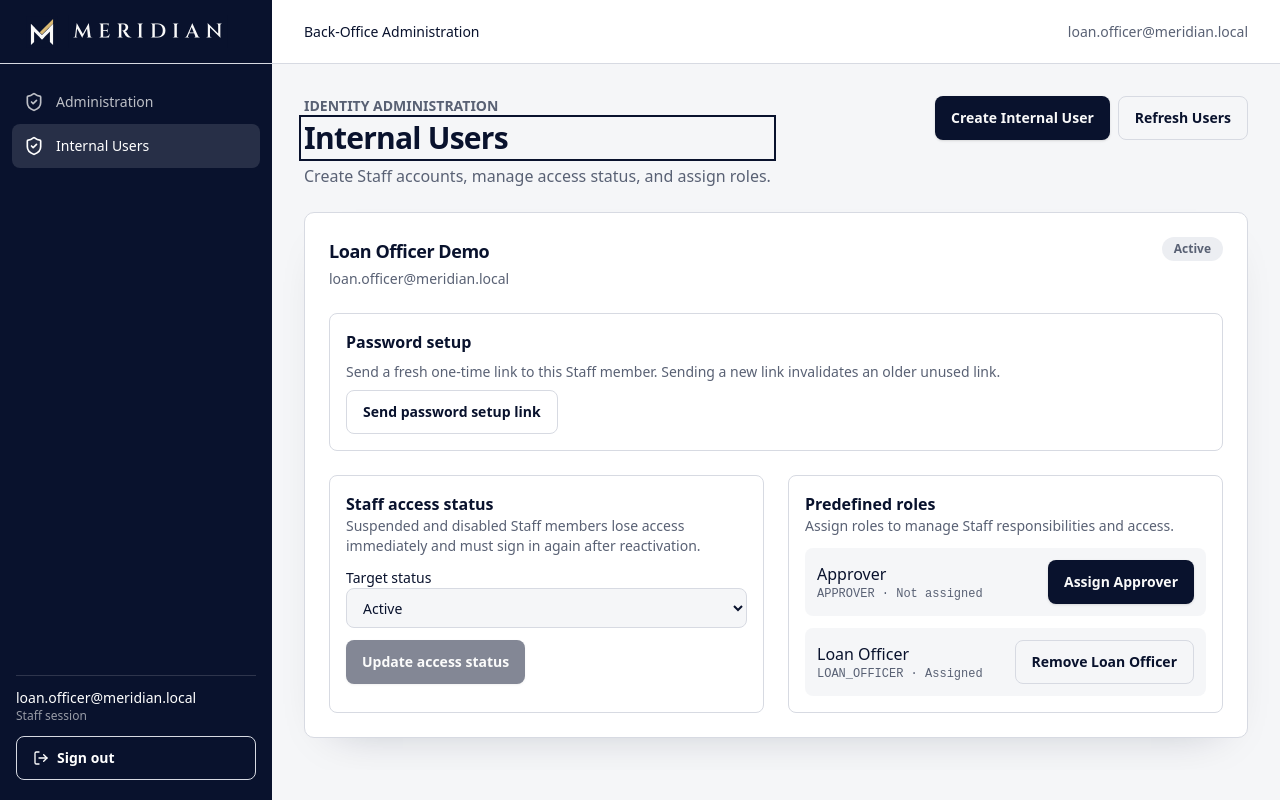
it: Internal User administration page › confirms suspension before the exact target-state command and restores focus on cancel
This screenshot has width=1280, height=800.
expect the heading "Loan Officer Demo" is shown: met, box 329,237 -> 509,265
Select "Suspended" in the dropdown labelled "Target status": (546, 608) 346,588 -> 747,628
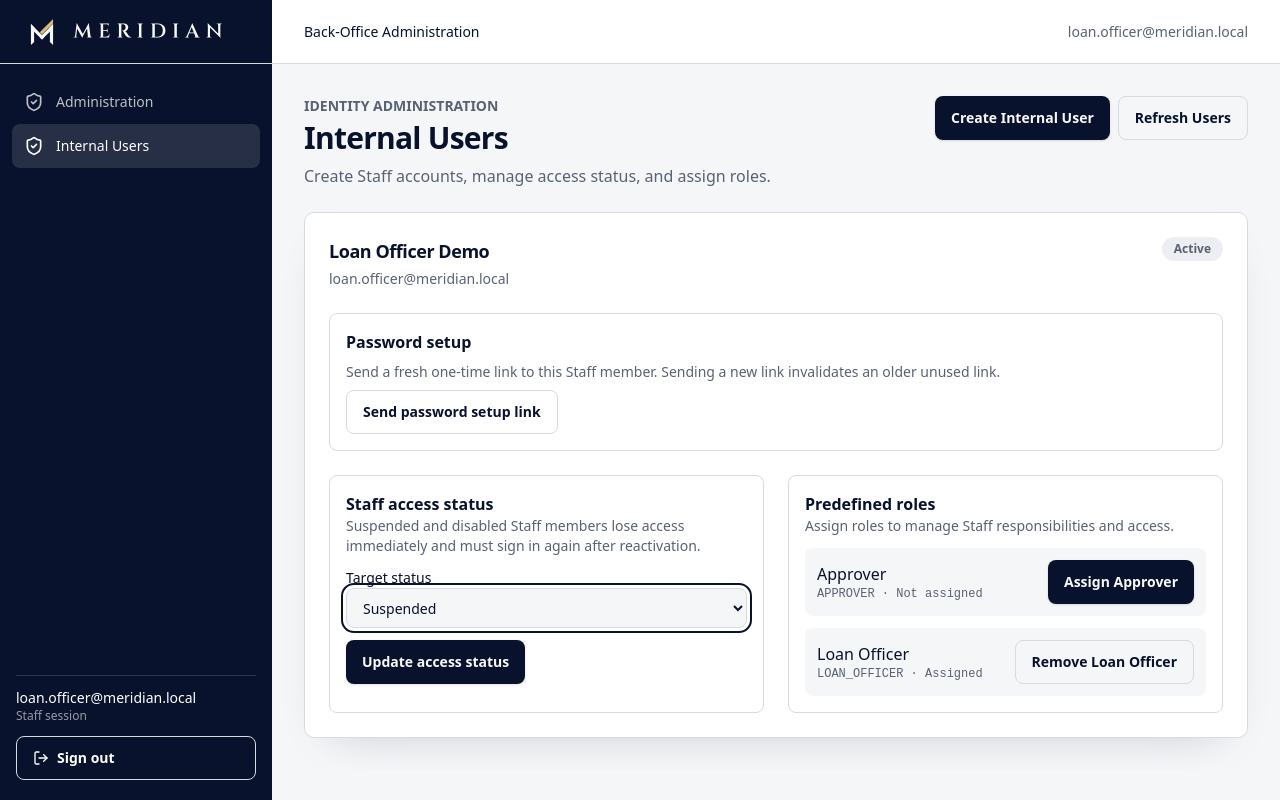
Click the button "Update access status": (436, 662) 346,640 -> 525,684
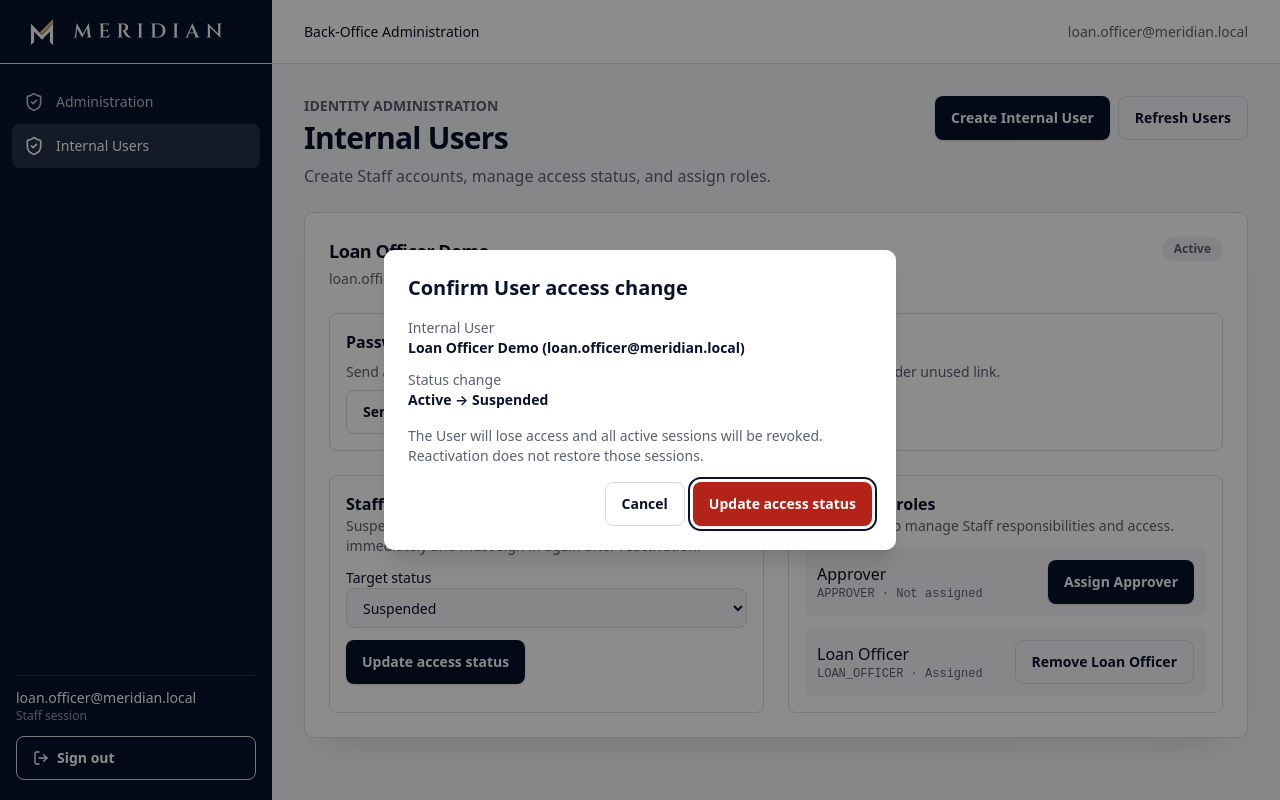
expect the dialog "Confirm User access change" shows "Loan Officer Demo (loan.officer@meridian.local)": met, box 384,250 -> 896,550
expect the dialog "Confirm User access change" shows "Active → Suspended": met, box 384,250 -> 896,550
expect the dialog "Confirm User access change" shows "lose access and all active sessions will be revoked": met, box 408,426 -> 823,465
Click the button "Cancel": (645, 504) 604,482 -> 685,526
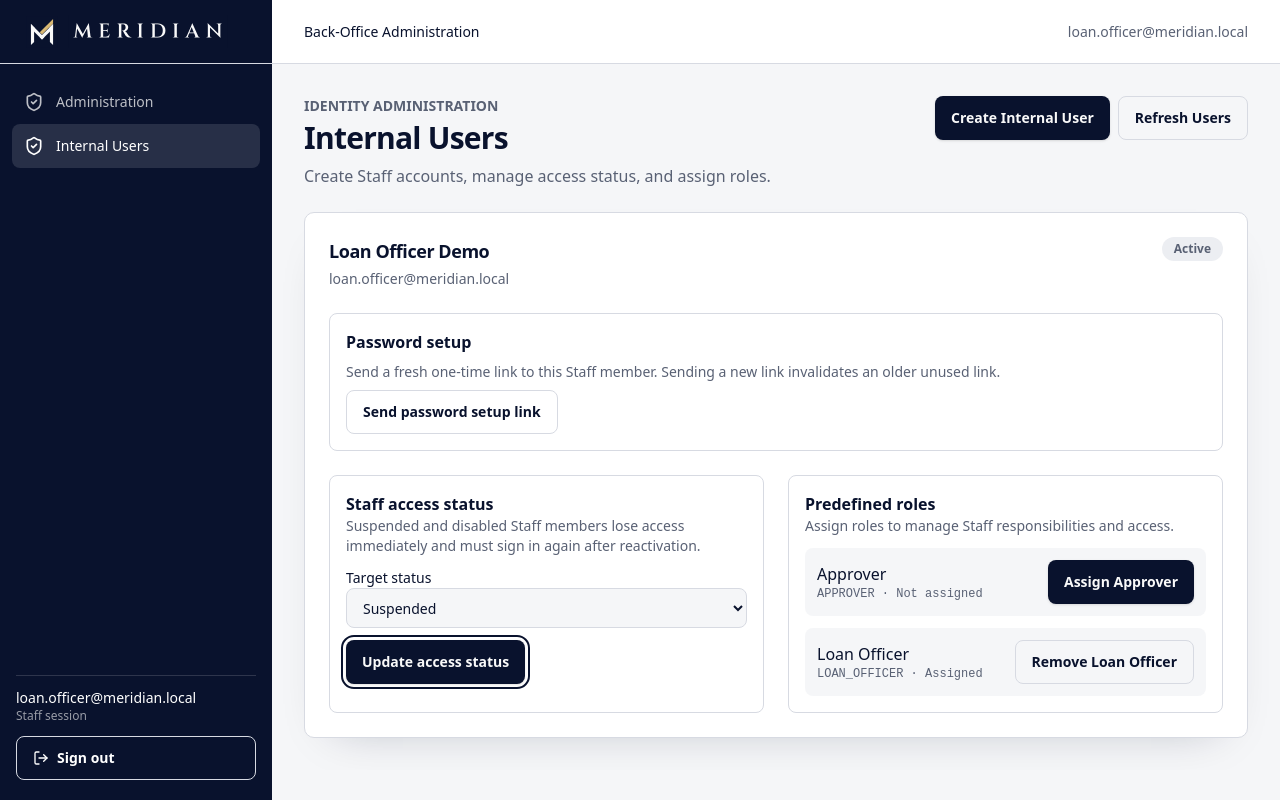
Click the button "Update access status": (436, 662) 346,640 -> 525,684
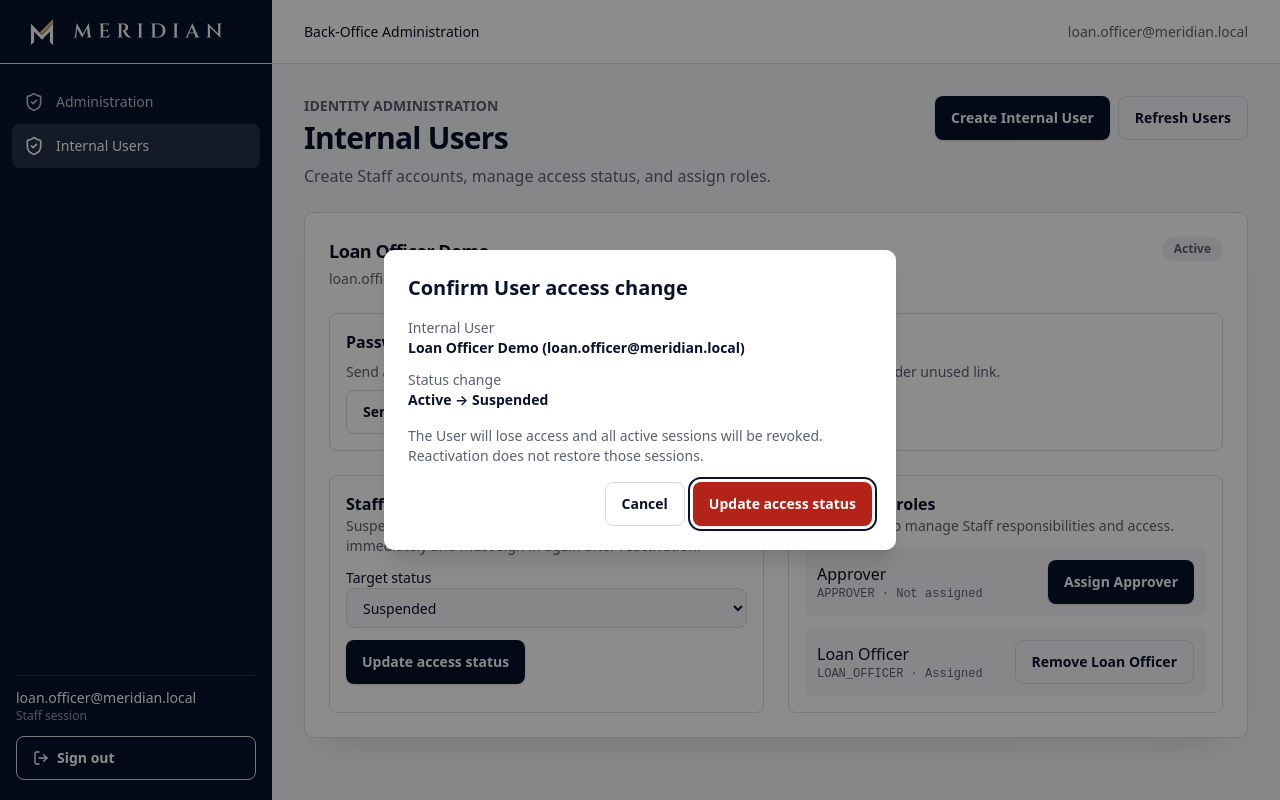
Click the button "Update access status": (782, 504) 693,482 -> 872,526
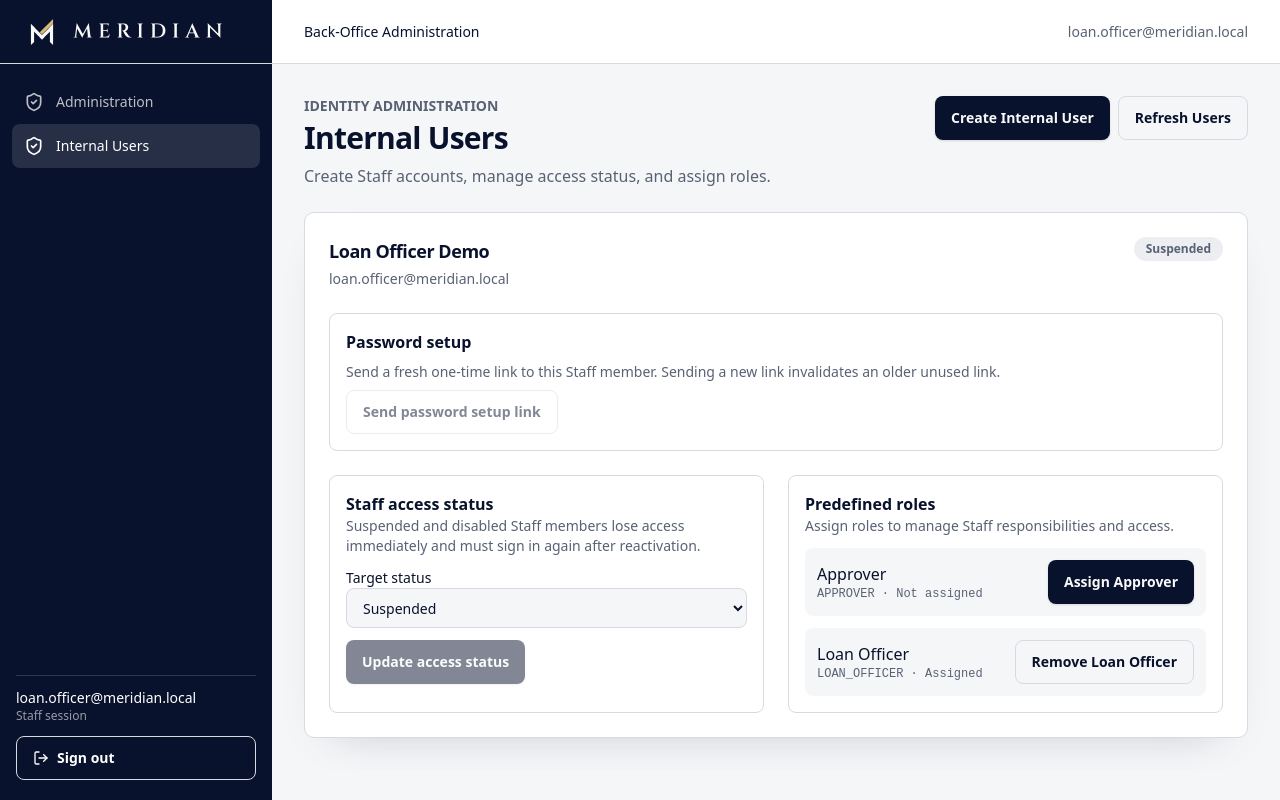
expect the text "Suspended" is shown: met, box 1134,237 -> 1223,261
